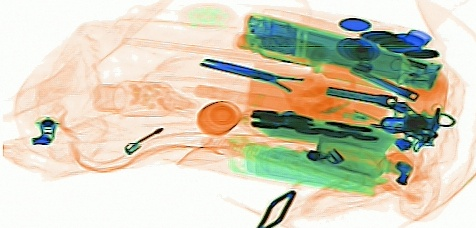scissors: (196, 55, 359, 111)
